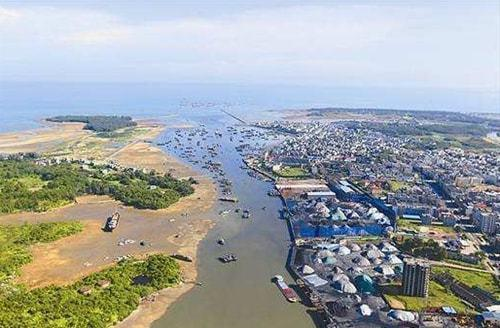sky_cloud: (0, 20, 500, 107)
